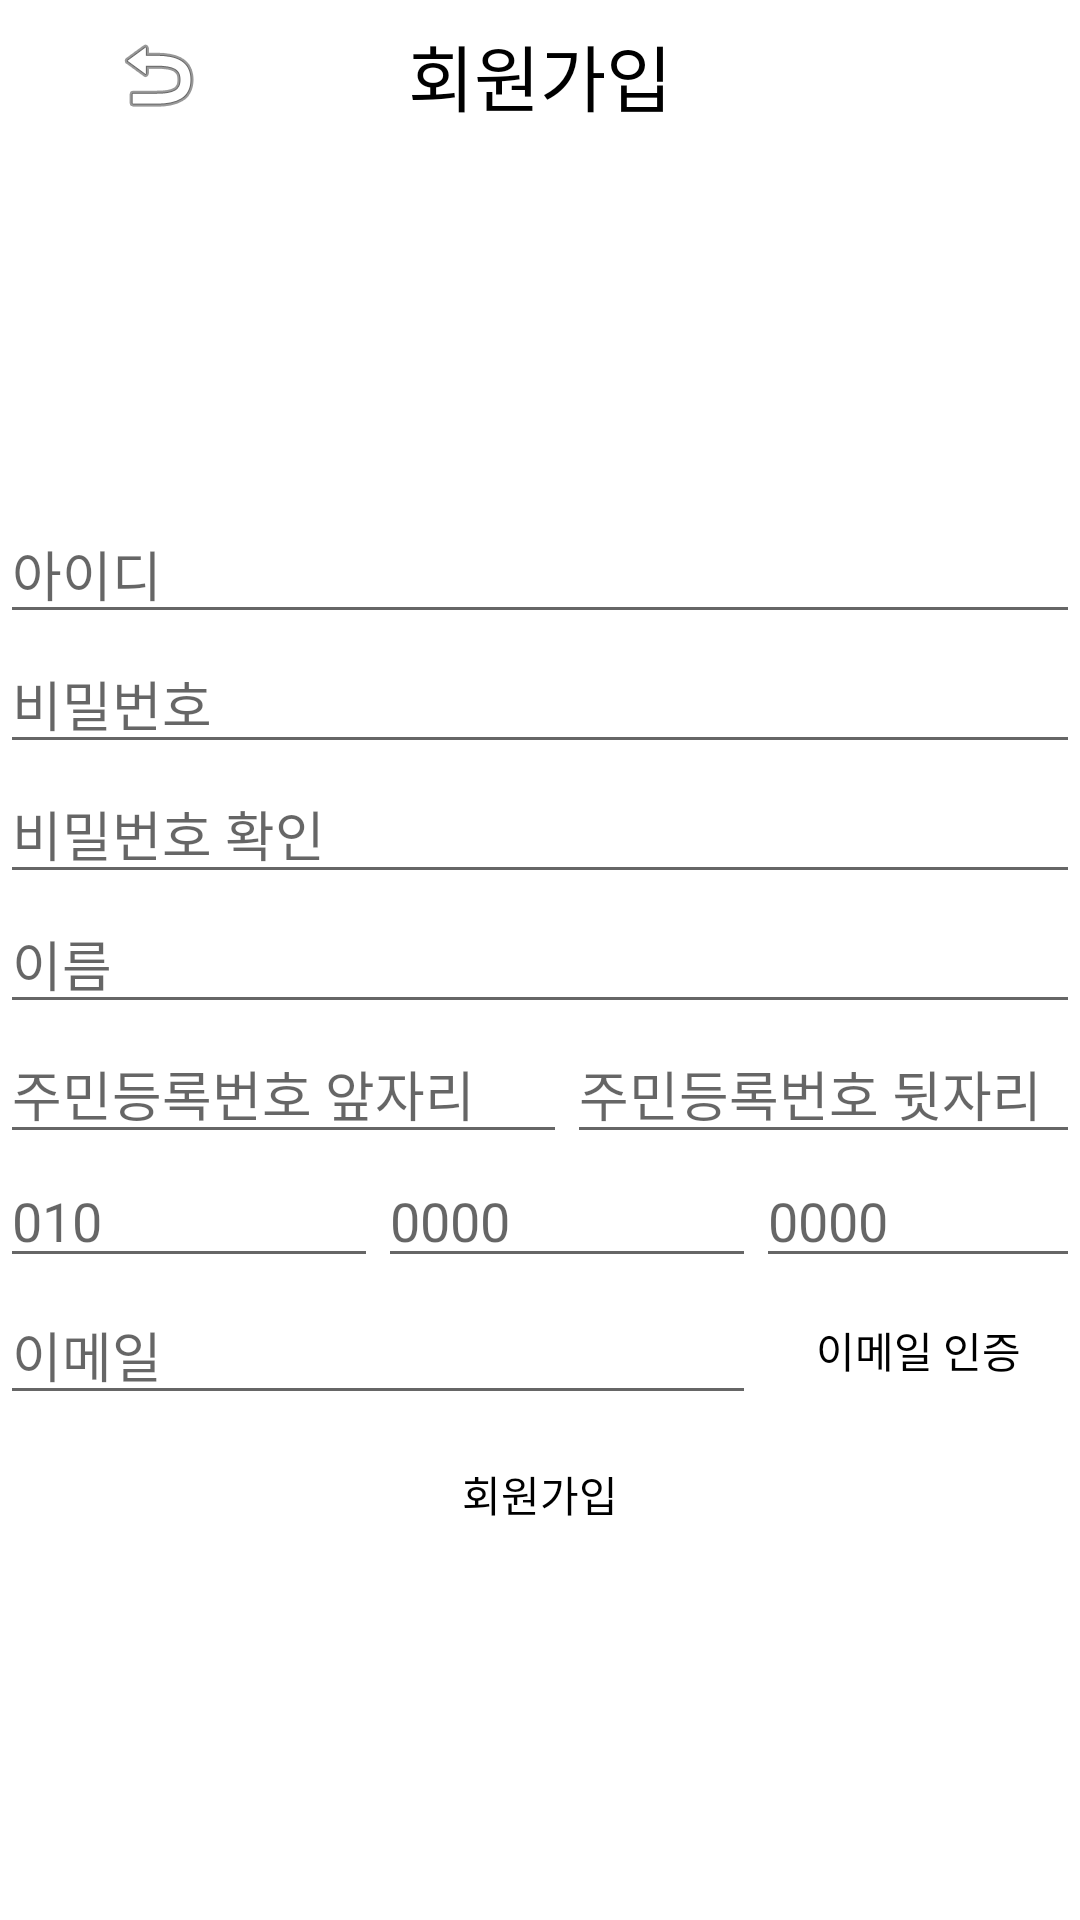

Where to tap for icons on this 1080 × 1920 app screen, as (x,y):
revert: (159,75)
